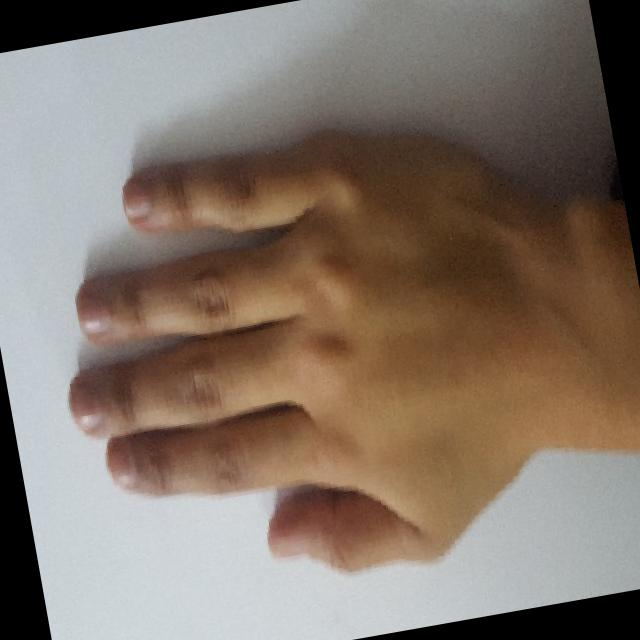Nail: (76, 291, 111, 334), (69, 384, 99, 428), (106, 446, 134, 487), (123, 182, 151, 219)
